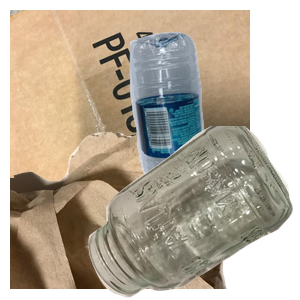cardboard: (10, 10, 250, 190)
glass: (86, 126, 300, 300)
plastic: (127, 29, 300, 209)
trash: (10, 120, 229, 300)
